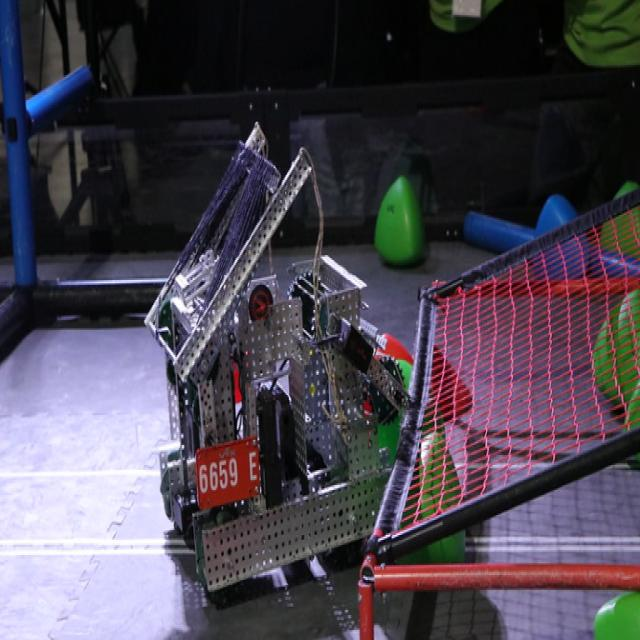License-Plates: (198, 440, 263, 507)
